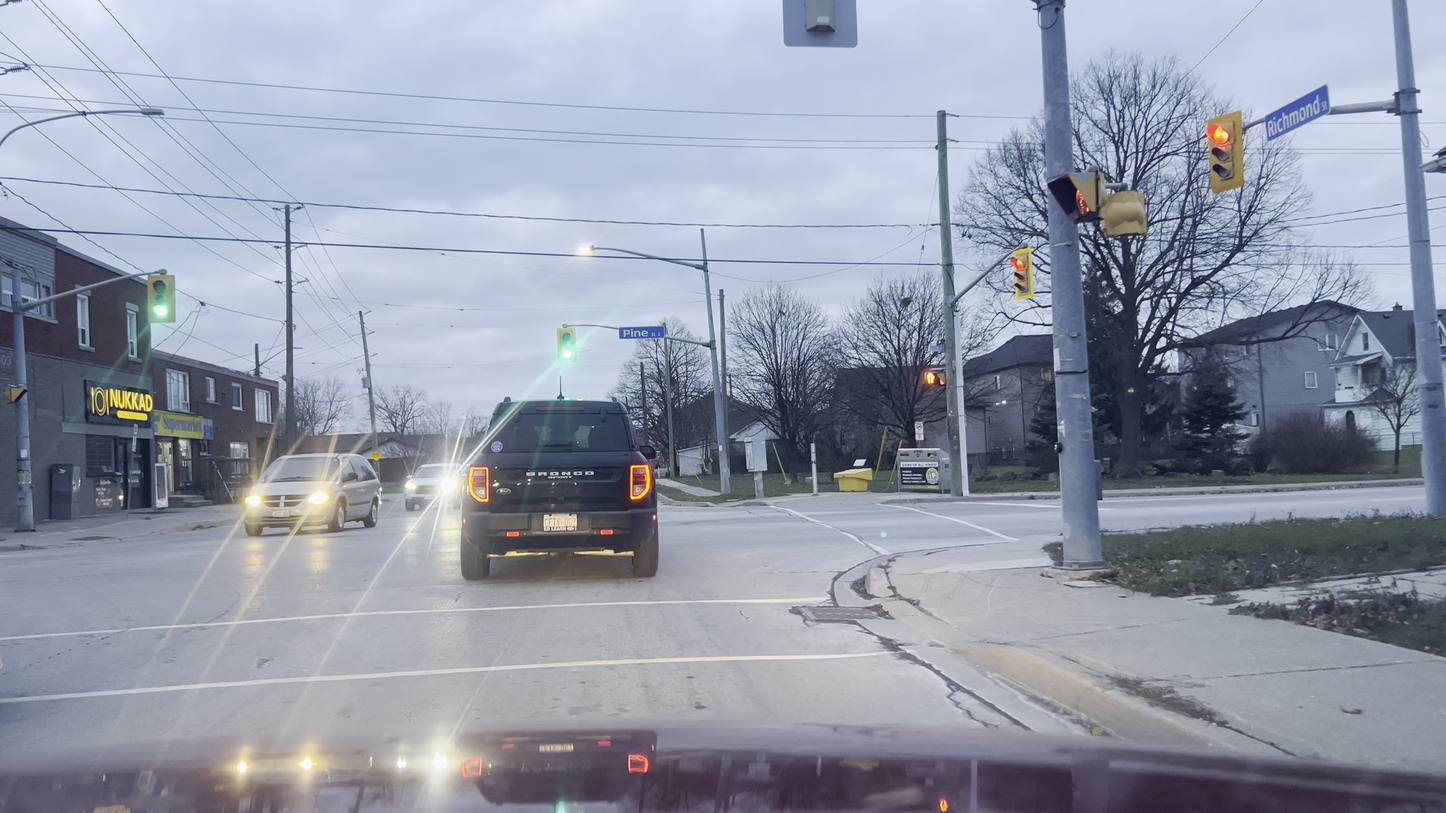cracks: (209, 591, 234, 630), (253, 650, 277, 674)
